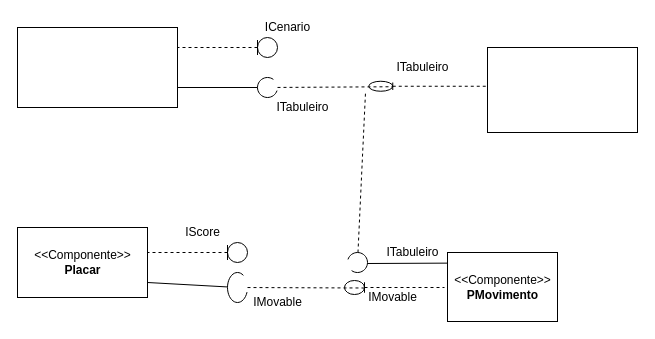
This 655x339 diagram has some shape labels left out. The shapes that lost their labels are listed below. From the top down, each one's centre as x and y in pixels, then its label:
the point at 97,67: <<Componente>> Cenario
the point at 562,89: <<Component>> Tabuleiro
